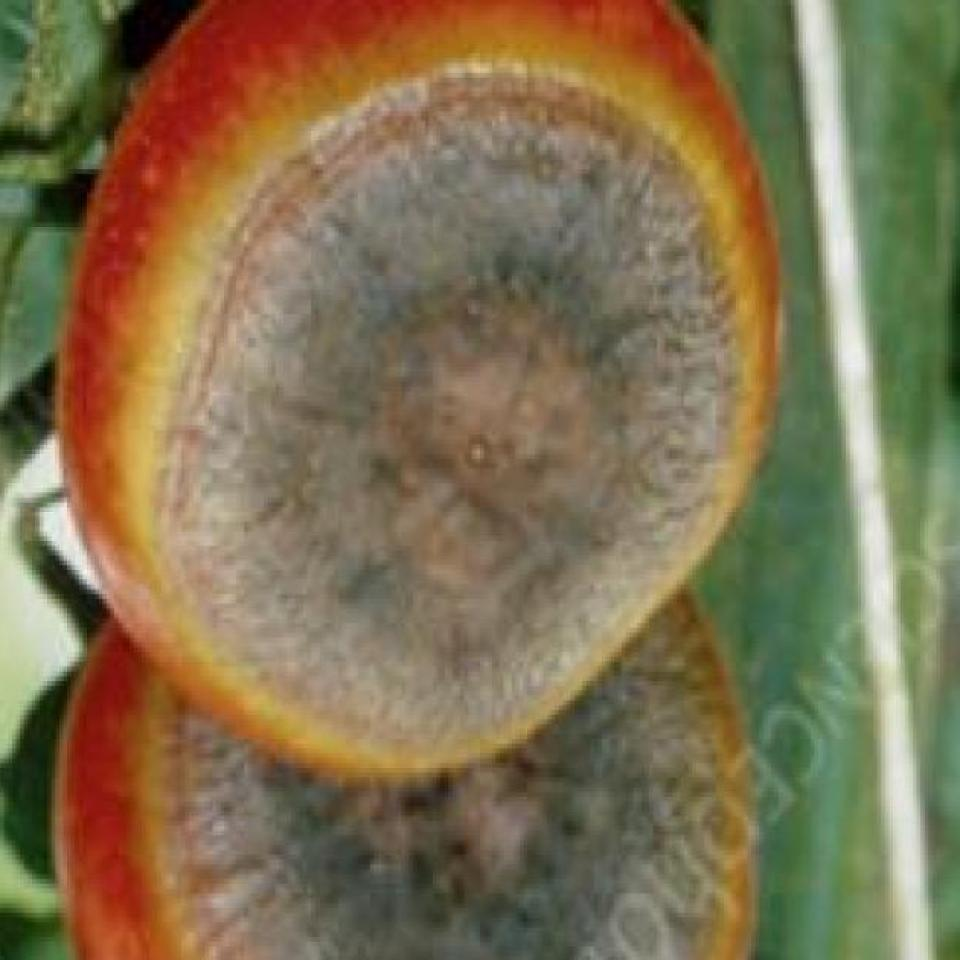Blossom_end_rot: (149, 62, 744, 768), (152, 614, 746, 960)
